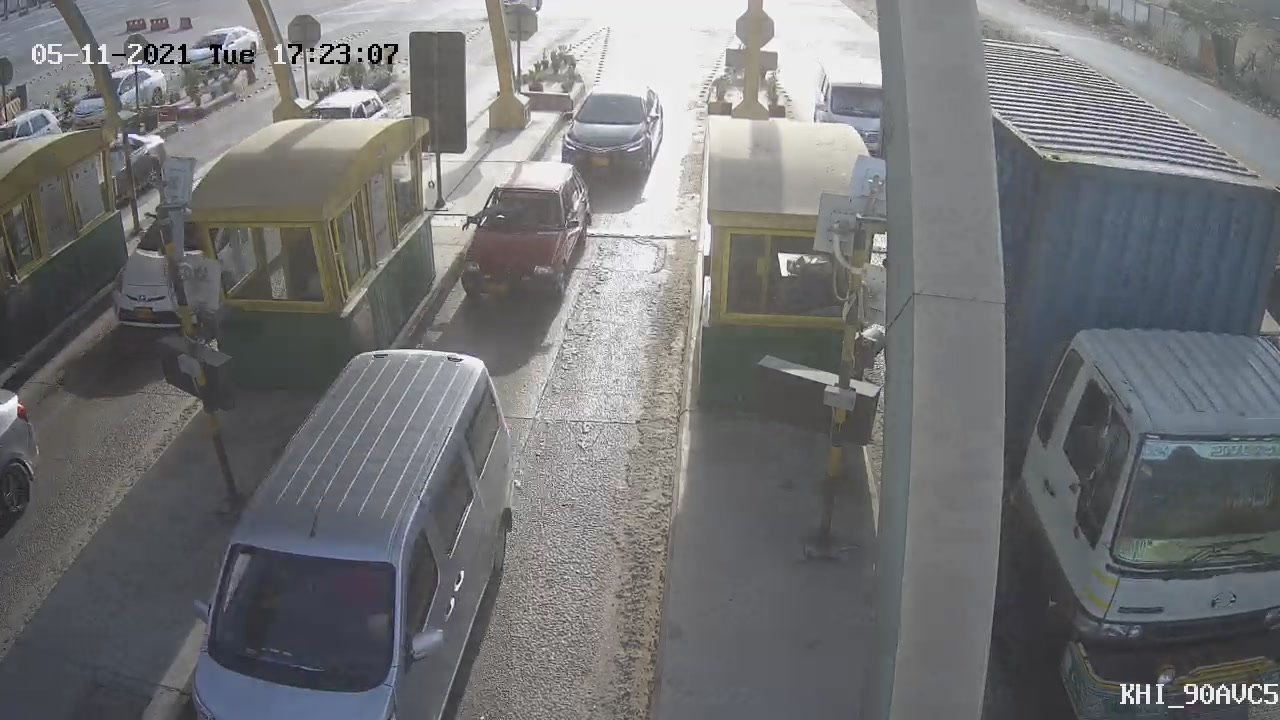F1: (451, 151, 609, 339), (546, 65, 676, 200)
